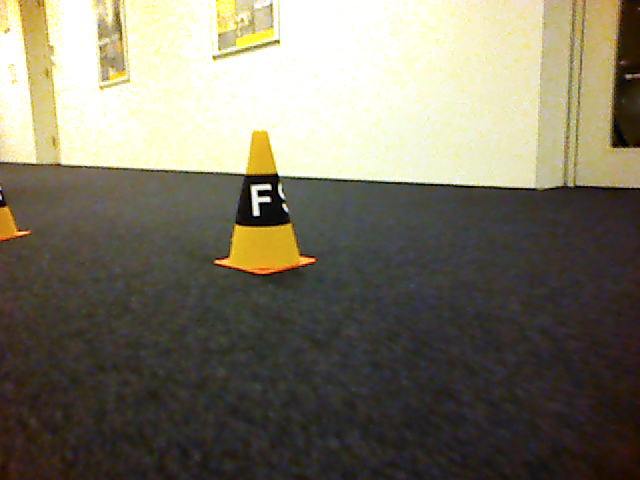yellowcone: (211, 130, 319, 277)
